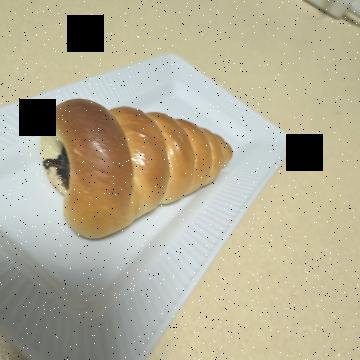cream horn: (92, 121, 260, 336)
